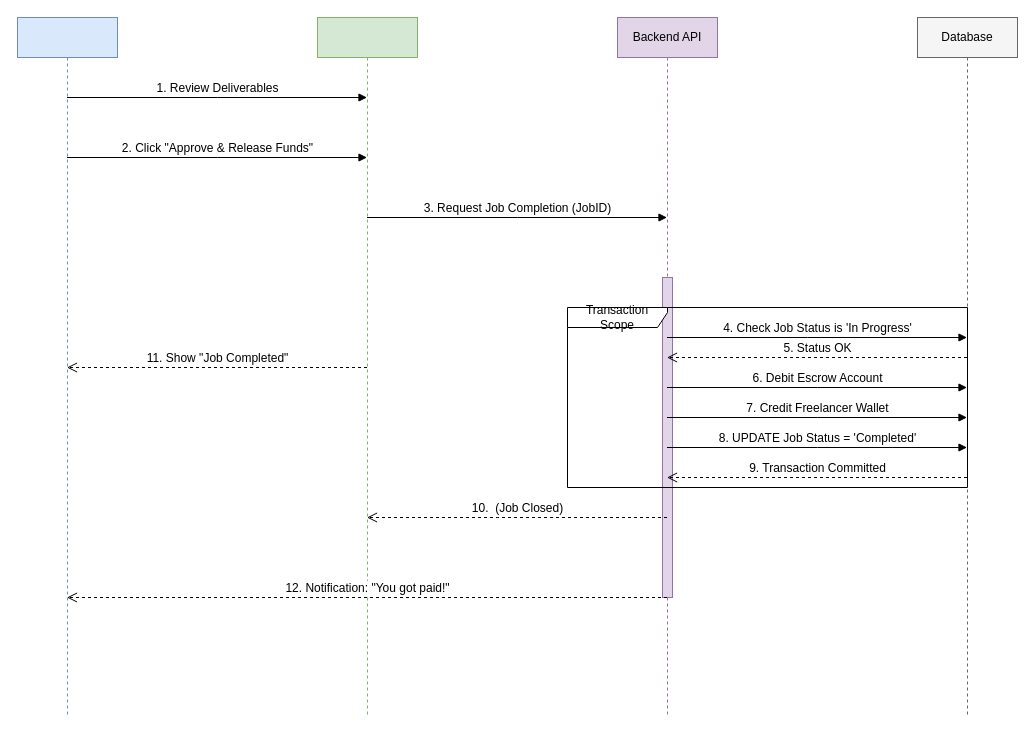
This 1035x735 diagram has some shape labels left out. Here are the shapes that lost their labels. From the top down, the box of each, then its label:
(16, 16, 118, 718): Client
(316, 16, 418, 718): Frontend App
